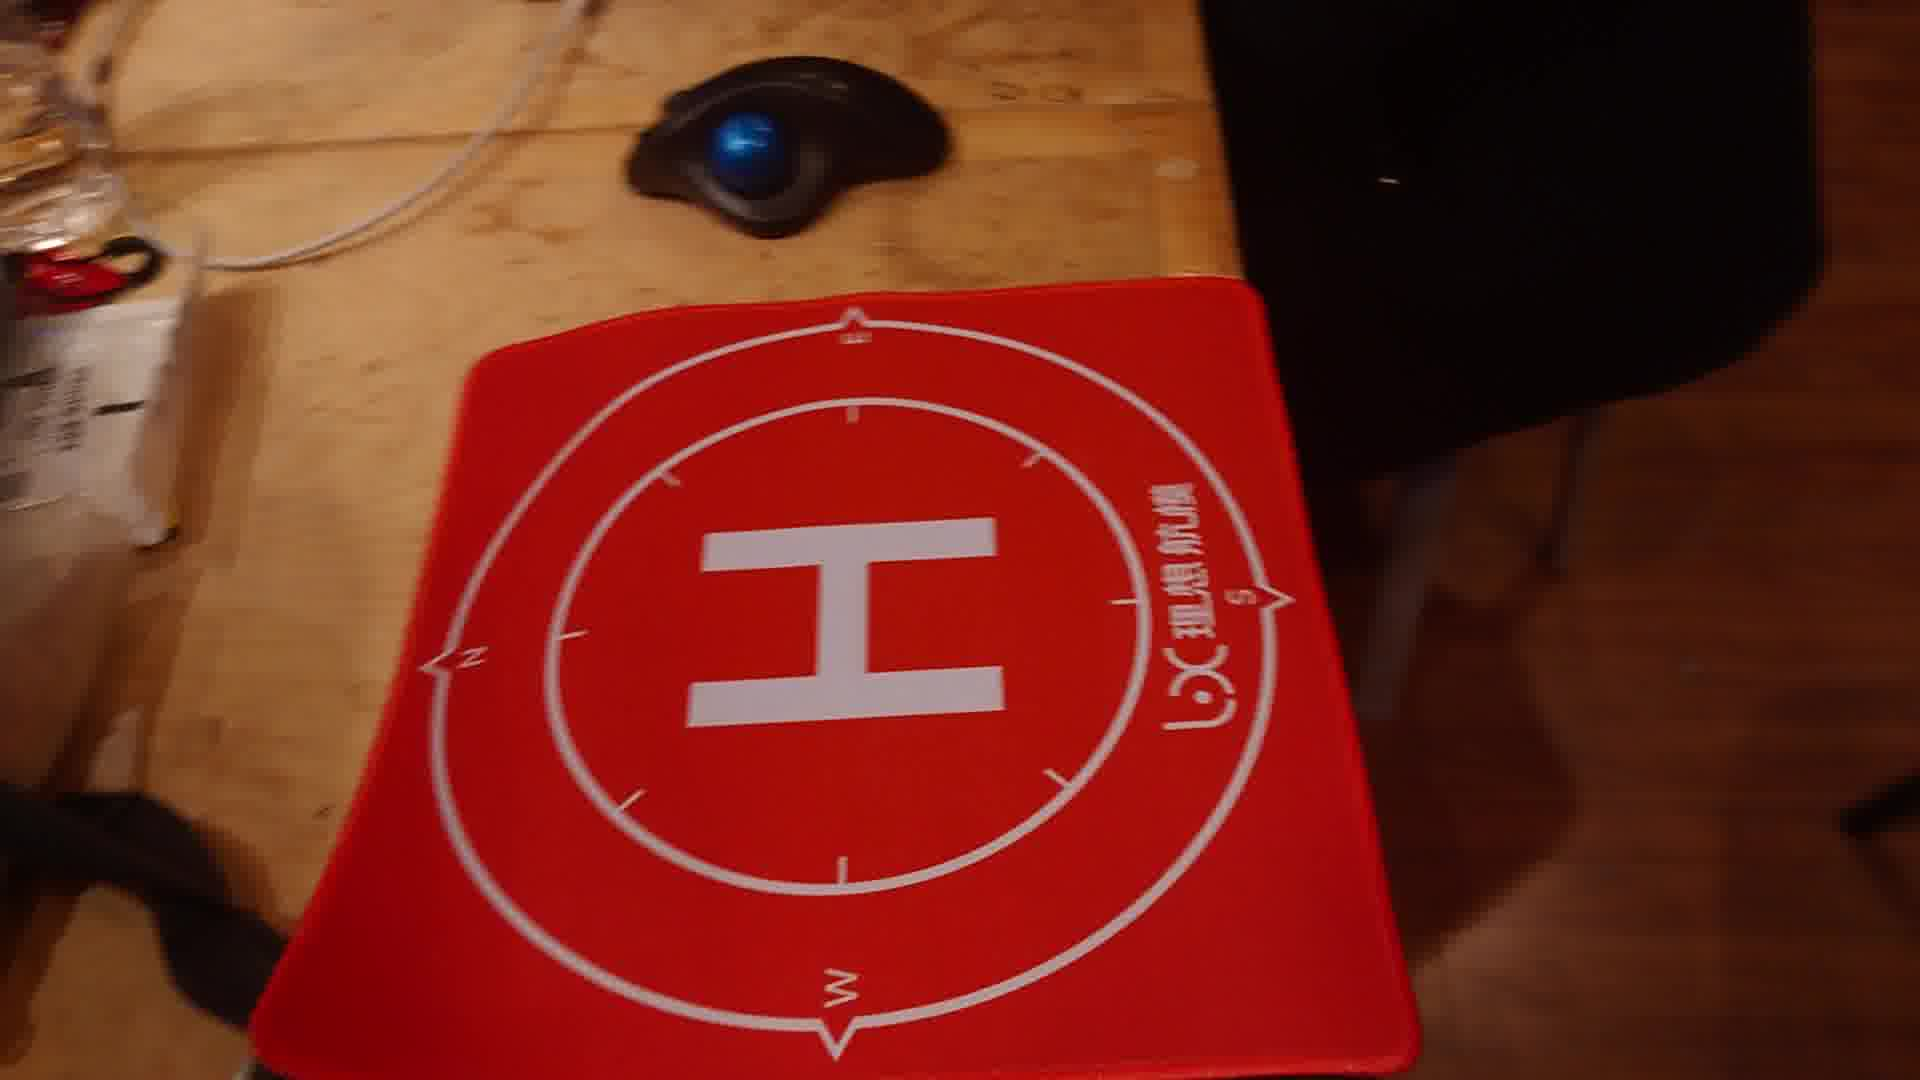H: (684, 516, 1009, 728)
